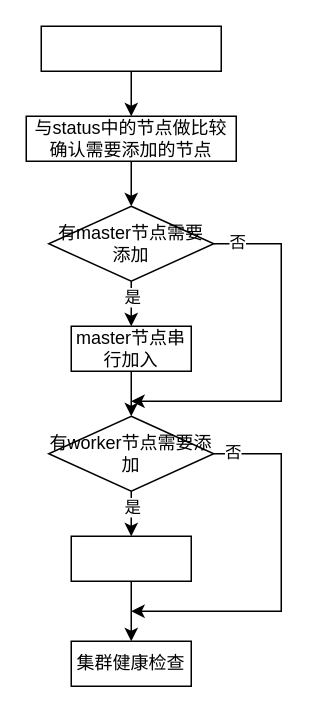
This 320x713 diagram has some shape labels left out. The shapes that lost their labels are listed below. From the top down, each one's centre as x and y in pixels, then its label:
At (130,48): "修改bc资源，添加节点信息到sepc中".
At (130,558): "worker节点并行加入".
